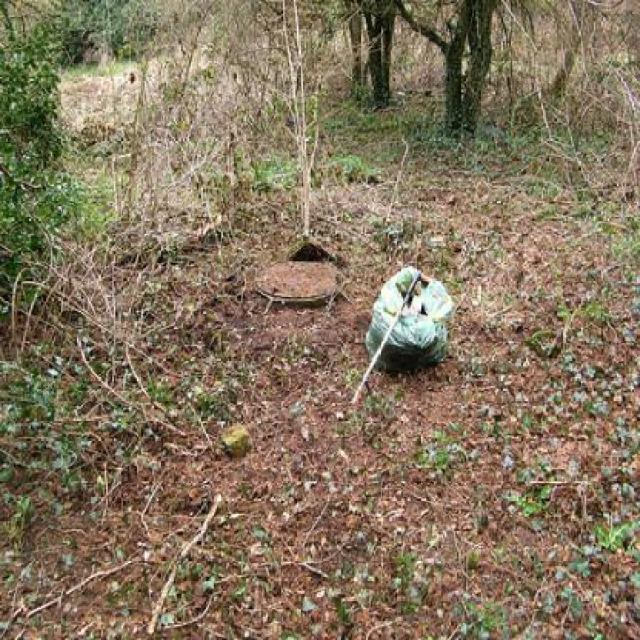garbage: (365, 277, 454, 362)
